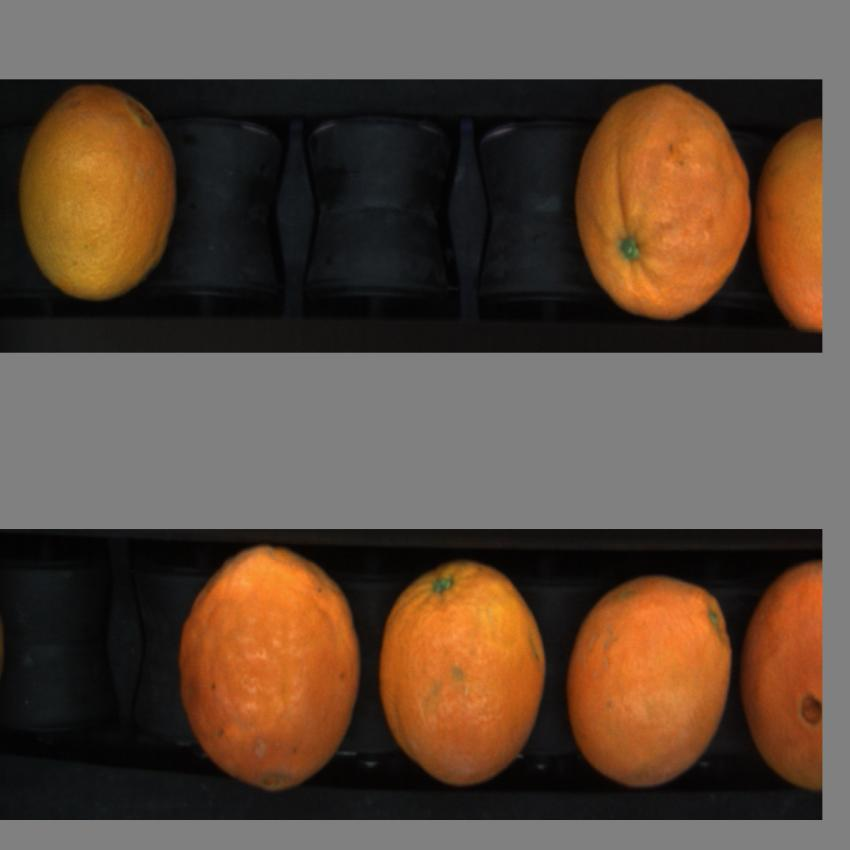Buen estado: (172, 540, 363, 791), (573, 90, 754, 322), (375, 557, 553, 792), (561, 566, 733, 796), (18, 81, 183, 302), (754, 98, 820, 332)
Mal estado: (739, 563, 823, 786)
